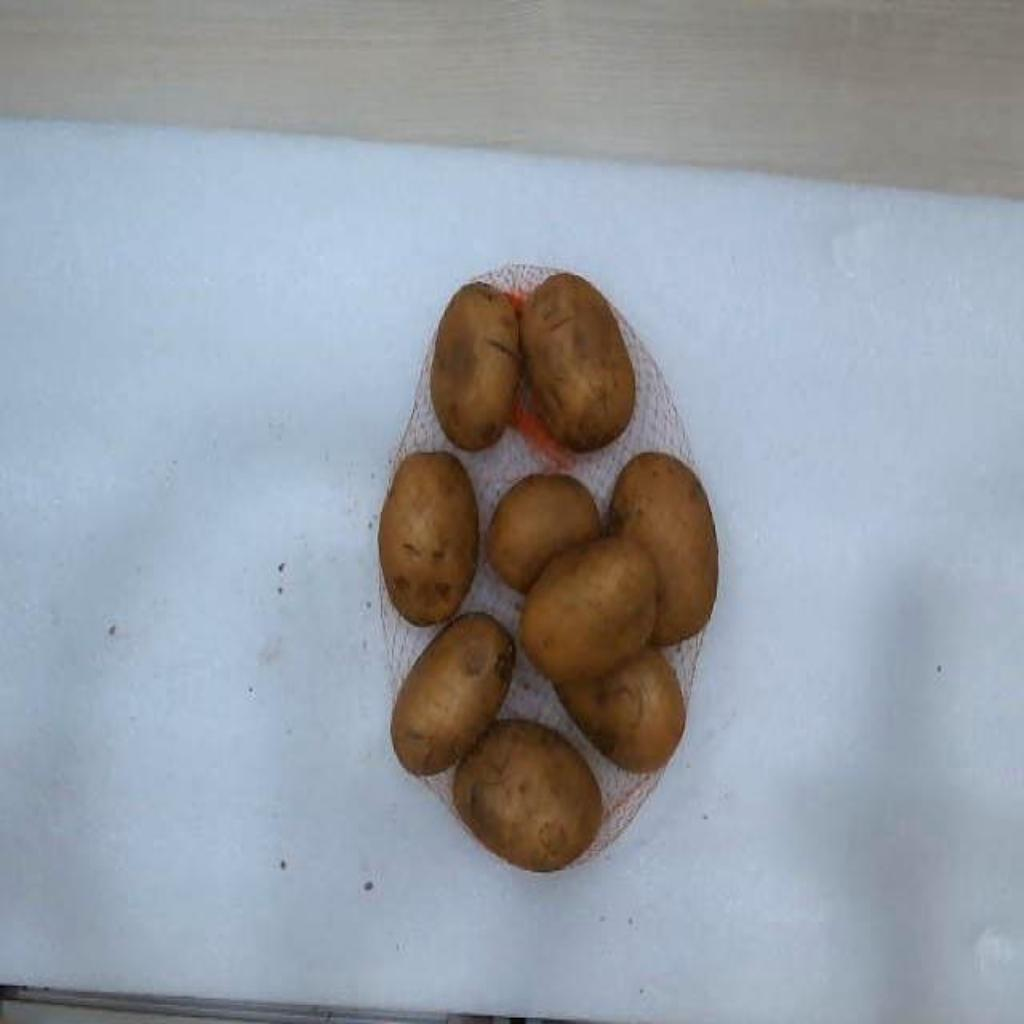potato: (454, 720, 602, 871), (610, 453, 718, 644), (520, 275, 636, 451), (390, 616, 516, 775), (520, 536, 658, 681), (378, 451, 478, 623), (556, 648, 686, 772), (430, 283, 520, 451), (488, 475, 600, 591)
